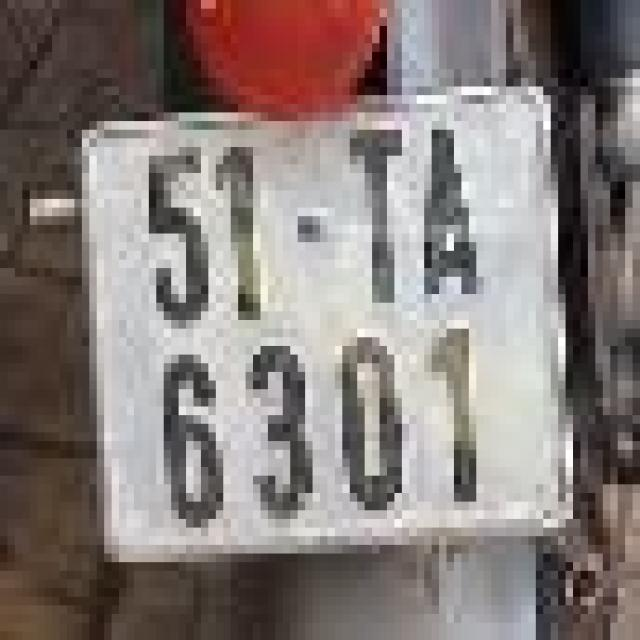0: (328, 329, 410, 519)
1: (424, 320, 491, 510), (212, 138, 272, 320)
3: (234, 328, 324, 528)
5: (145, 134, 212, 333)
6: (145, 354, 227, 545)
A: (417, 104, 491, 311)
T: (331, 104, 406, 311)
